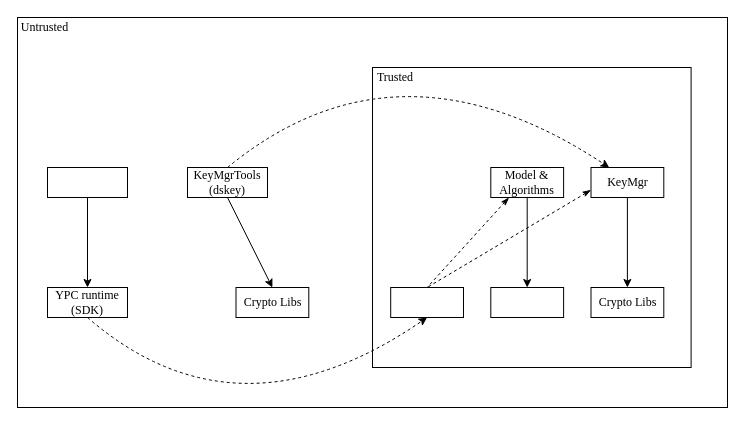
Some shapes in this 745 by 425 pixel diagram are drawn without their labels. Each missing label, with the centre of its shape:
"HPDA" belongs at (527,302).
"YPC runtime (stbox)" belongs at (427,302).
"YPC Toolkit" belongs at (87,182).
